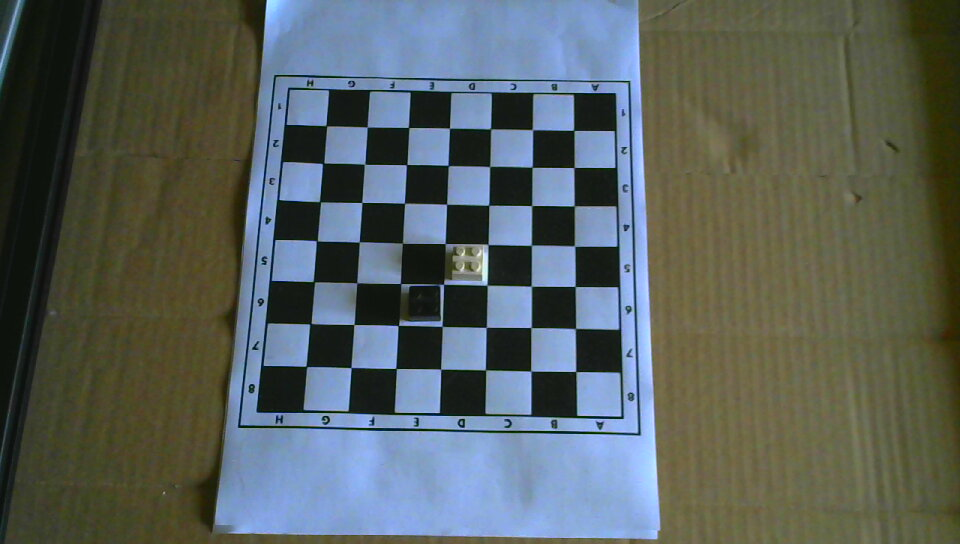bp: (407, 283, 442, 322)
wp: (451, 244, 485, 282)
